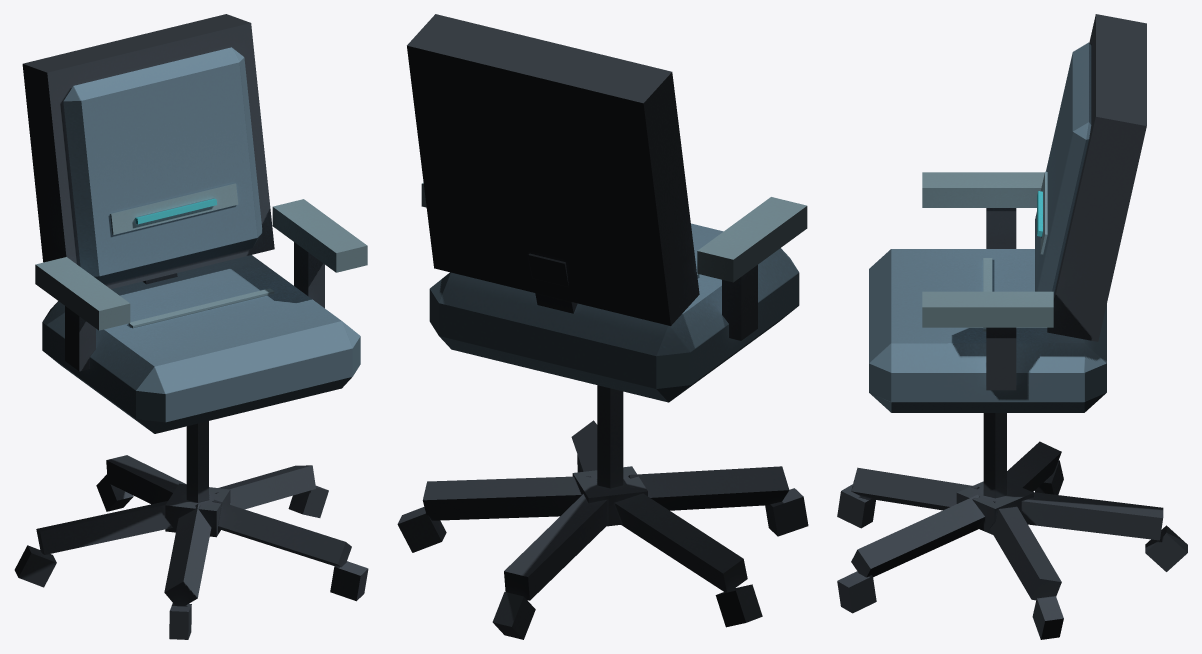
The model's file is 0-20261016-1900-ev011-r02-collab-taskchair_baked.glb.
3 renders of one model, left to right at view 1: azimuth 30°, elevation 25°; view 2: azimuth 150°, elevation 25°; view 3: azimuth 270°, elevation 25°, orthographic. The views are drawn at different scales.
Parts seen in each view (by area): view 1: SW_Collab_TaskChair; view 2: SW_Collab_TaskChair; view 3: SW_Collab_TaskChair.
Part boxes in pixels (x1,y1,x2,y2): SW_Collab_TaskChair: [14, 14, 368, 639]; SW_Collab_TaskChair: [397, 14, 808, 639]; SW_Collab_TaskChair: [837, 14, 1187, 639].
Size of the model in its own units: 0.7464 by 1.12 by 0.707.
1 material, 1 textured.
